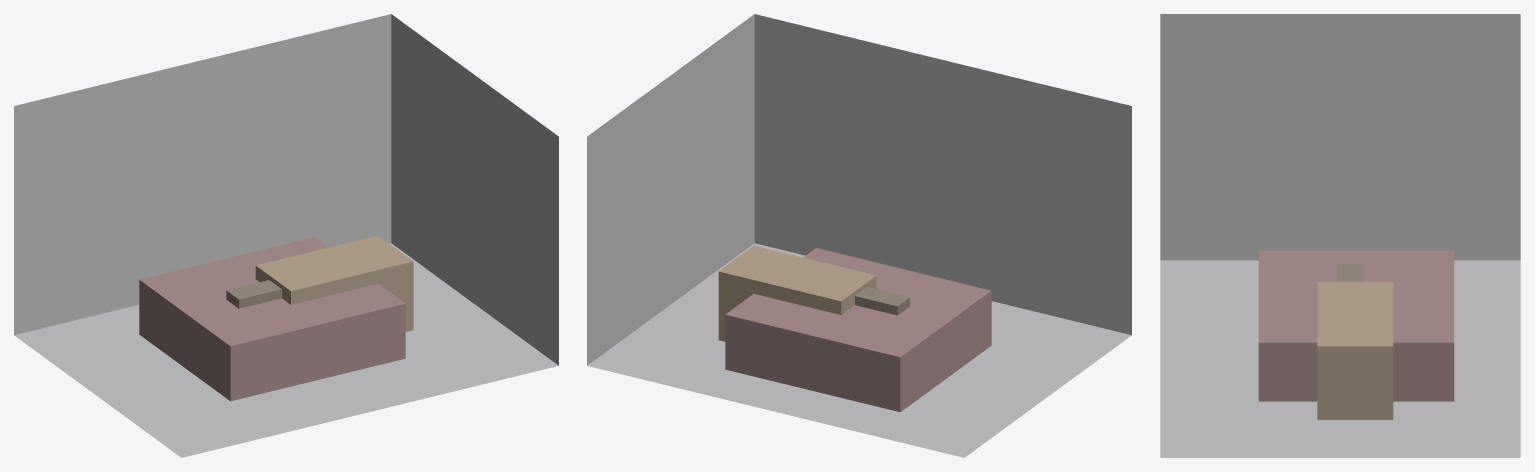
Rendered from optimised_layout.glb.
3 views of the same model, side by side, from view 1: azimuth 30°, elevation 25°; view 2: azimuth 150°, elevation 25°; view 3: azimuth 270°, elevation 25° (orthographic). The views are drawn at different scales.
Parts seen in each view (by area): view 1: room, bed, desk, suitcase; view 2: room, bed, desk, suitcase; view 3: room, bed, desk, suitcase.
Boxes of the visible parts, box(x1,y1,x2,y2) form: room: box(14, 14, 558, 457); bed: box(139, 237, 405, 401); desk: box(255, 235, 413, 331); suitcase: box(226, 280, 281, 308); room: box(587, 14, 1131, 457); bed: box(725, 248, 991, 412); desk: box(718, 245, 876, 341); suitcase: box(855, 286, 910, 315); room: box(1160, 14, 1520, 457); bed: box(1258, 250, 1454, 401); desk: box(1317, 282, 1393, 419); suitcase: box(1337, 264, 1363, 281).
Bounding box in the file's own units: 4.31 × 2.5 × 3.31.
